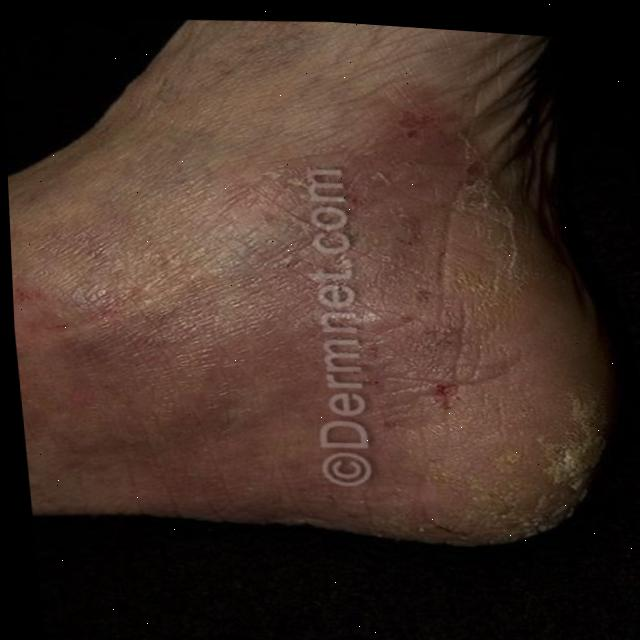Eczema: (3, 76, 595, 553)
